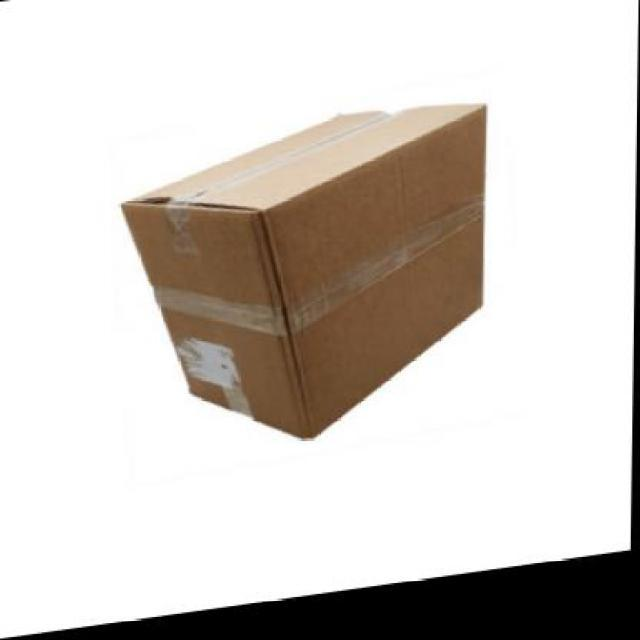box: (111, 111, 487, 472)
